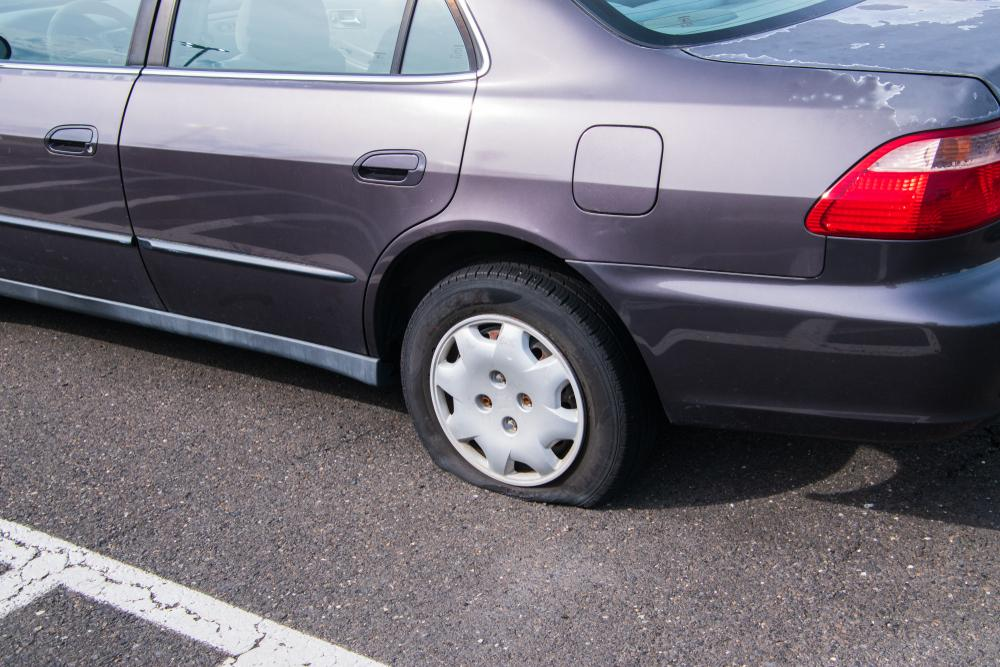tire flat: (401, 263, 629, 509)
